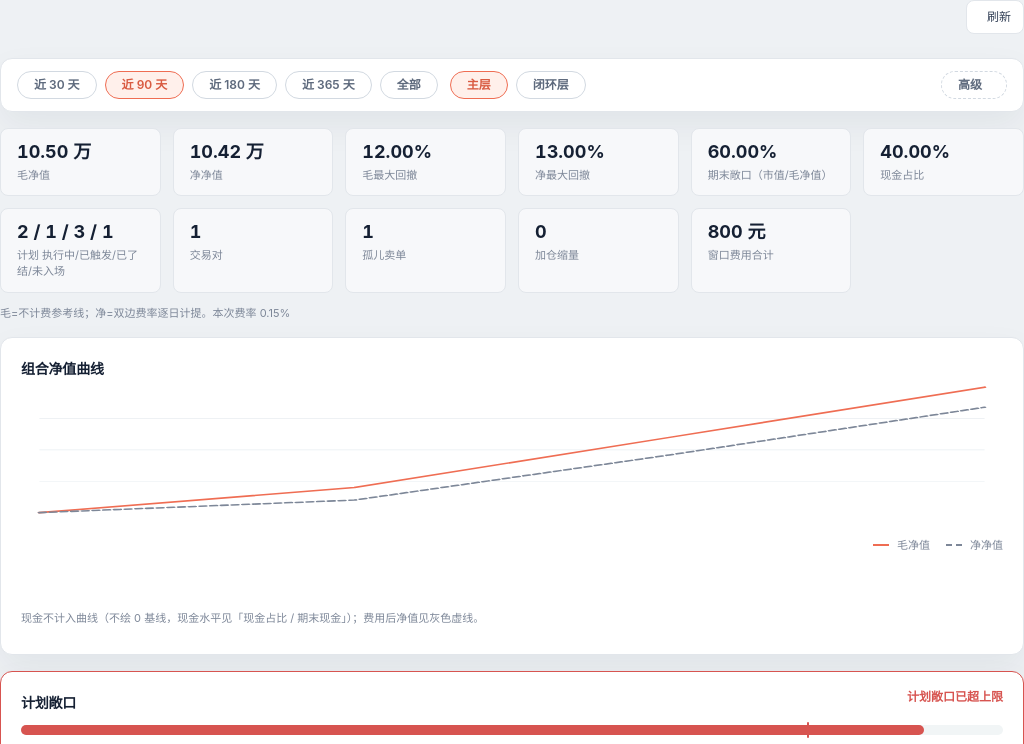
Test: ViewPortfolio › overCap → 敞口卡红态；假想线勾选后出「假想参考，非真实持仓」注记
expect the text with test id "portfolio-overcap" shows "已超上限": met, box [907,689,1003,704]
Click the button with test id "portfolio-adv-toggle": {"x": 974, "y": 85} [941,71,1007,99]
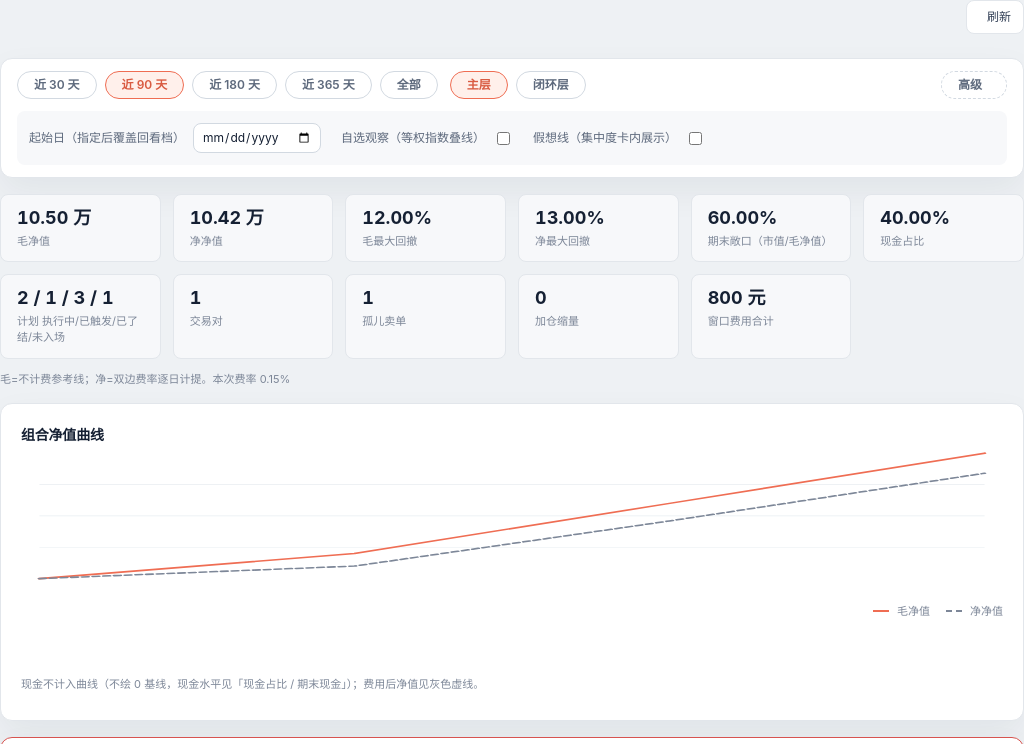
Click the checkbox labelled "假想线（集中度卡内展示）": {"x": 696, "y": 138} [689,132,702,144]
(page scrolled)
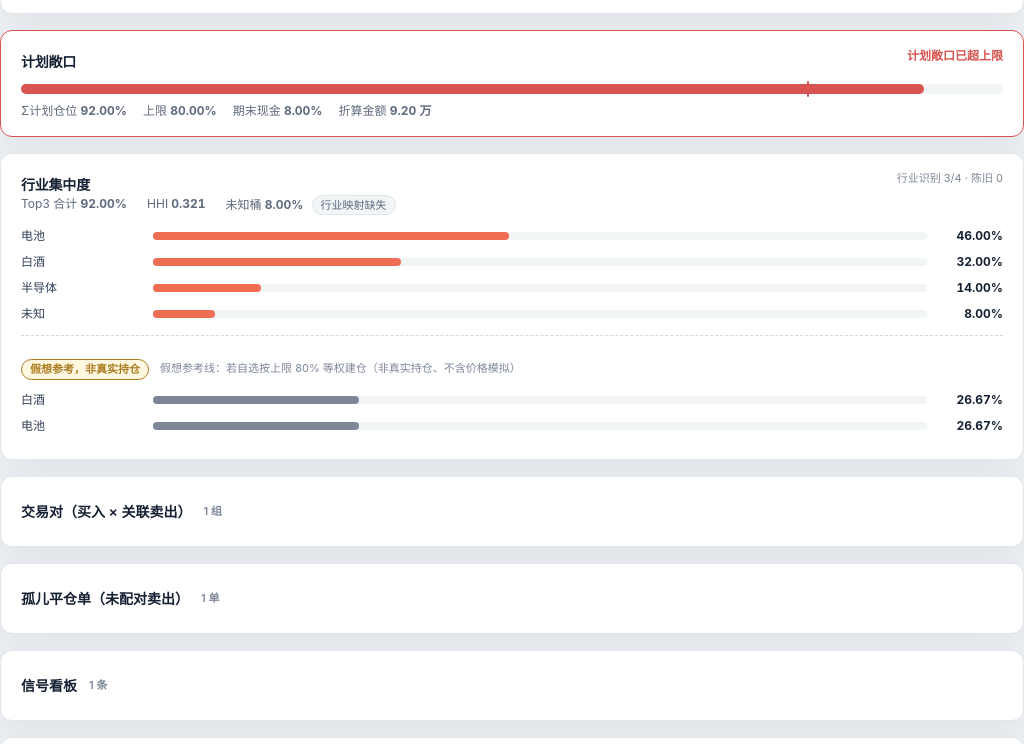
expect the element with test id "portfolio-hypo" is shown: met, box [21,335,1003,435]
expect the element with test id "portfolio-hypo" shows "假想参考，非真实持仓": met, box [30,362,140,376]
